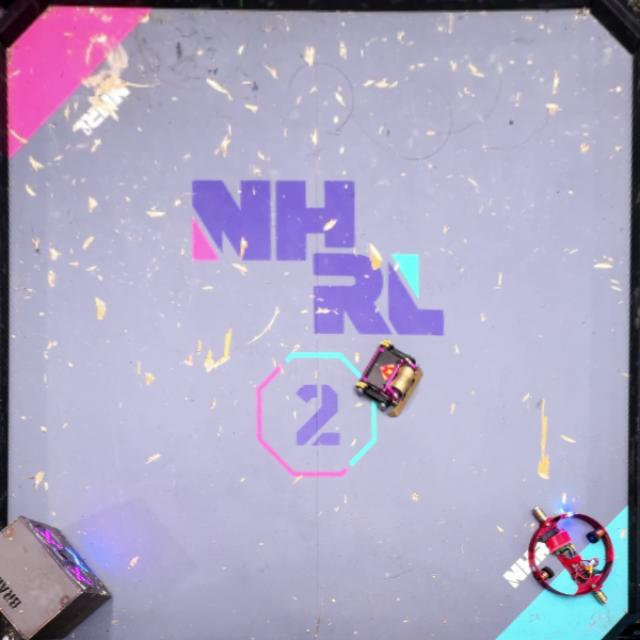housebot: (0, 515, 111, 640)
robot: (527, 506, 613, 604), (355, 340, 423, 418)
